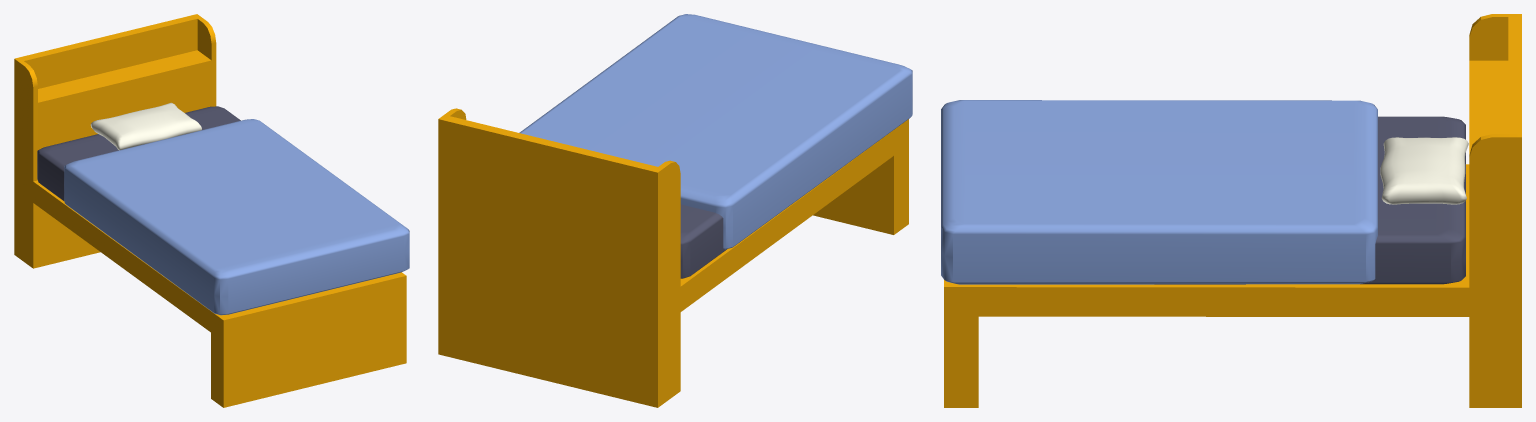
The model's file is FatherBed.fbx.
The picture shows the model from 3 angles, left to right: view 1: azimuth 30°, elevation 25°; view 2: azimuth 150°, elevation 25°; view 3: azimuth 270°, elevation 25°; orthographic projection. The views are drawn at different scales.
Parts seen in each view (by area): view 1: pCube290, pCube111, pCube112, pCube113, pCube117, Pillow, pCube289; view 2: pCube112, pCube290, pCube111, pCube113, pCube117, pCube289; view 3: pCube290, pCube111, pCube289, pCube117, Pillow, pCube112, pCube113.
Part boxes in pixels (bbox=[...]): pCube290: bbox=[64, 119, 409, 315]; pCube111: bbox=[33, 180, 406, 407]; pCube112: bbox=[19, 15, 211, 267]; pCube113: bbox=[14, 57, 37, 268]; pCube117: bbox=[37, 106, 240, 201]; Pillow: bbox=[90, 102, 201, 150]; pCube289: bbox=[193, 14, 216, 106]; pCube112: bbox=[444, 116, 657, 406]; pCube290: bbox=[519, 14, 912, 249]; pCube111: bbox=[680, 119, 908, 311]; pCube113: bbox=[652, 160, 680, 407]; pCube117: bbox=[680, 204, 726, 278]; pCube289: bbox=[438, 108, 466, 355]; pCube290: bbox=[941, 100, 1377, 284]; pCube111: bbox=[944, 164, 1469, 407]; pCube289: bbox=[1469, 134, 1521, 407]; pCube117: bbox=[1154, 116, 1465, 284]; Pillow: bbox=[1380, 137, 1468, 204]; pCube112: bbox=[1469, 17, 1521, 154]; pCube113: bbox=[1469, 14, 1521, 60].
Size of the model in its own units: 135 by 129 by 251.
